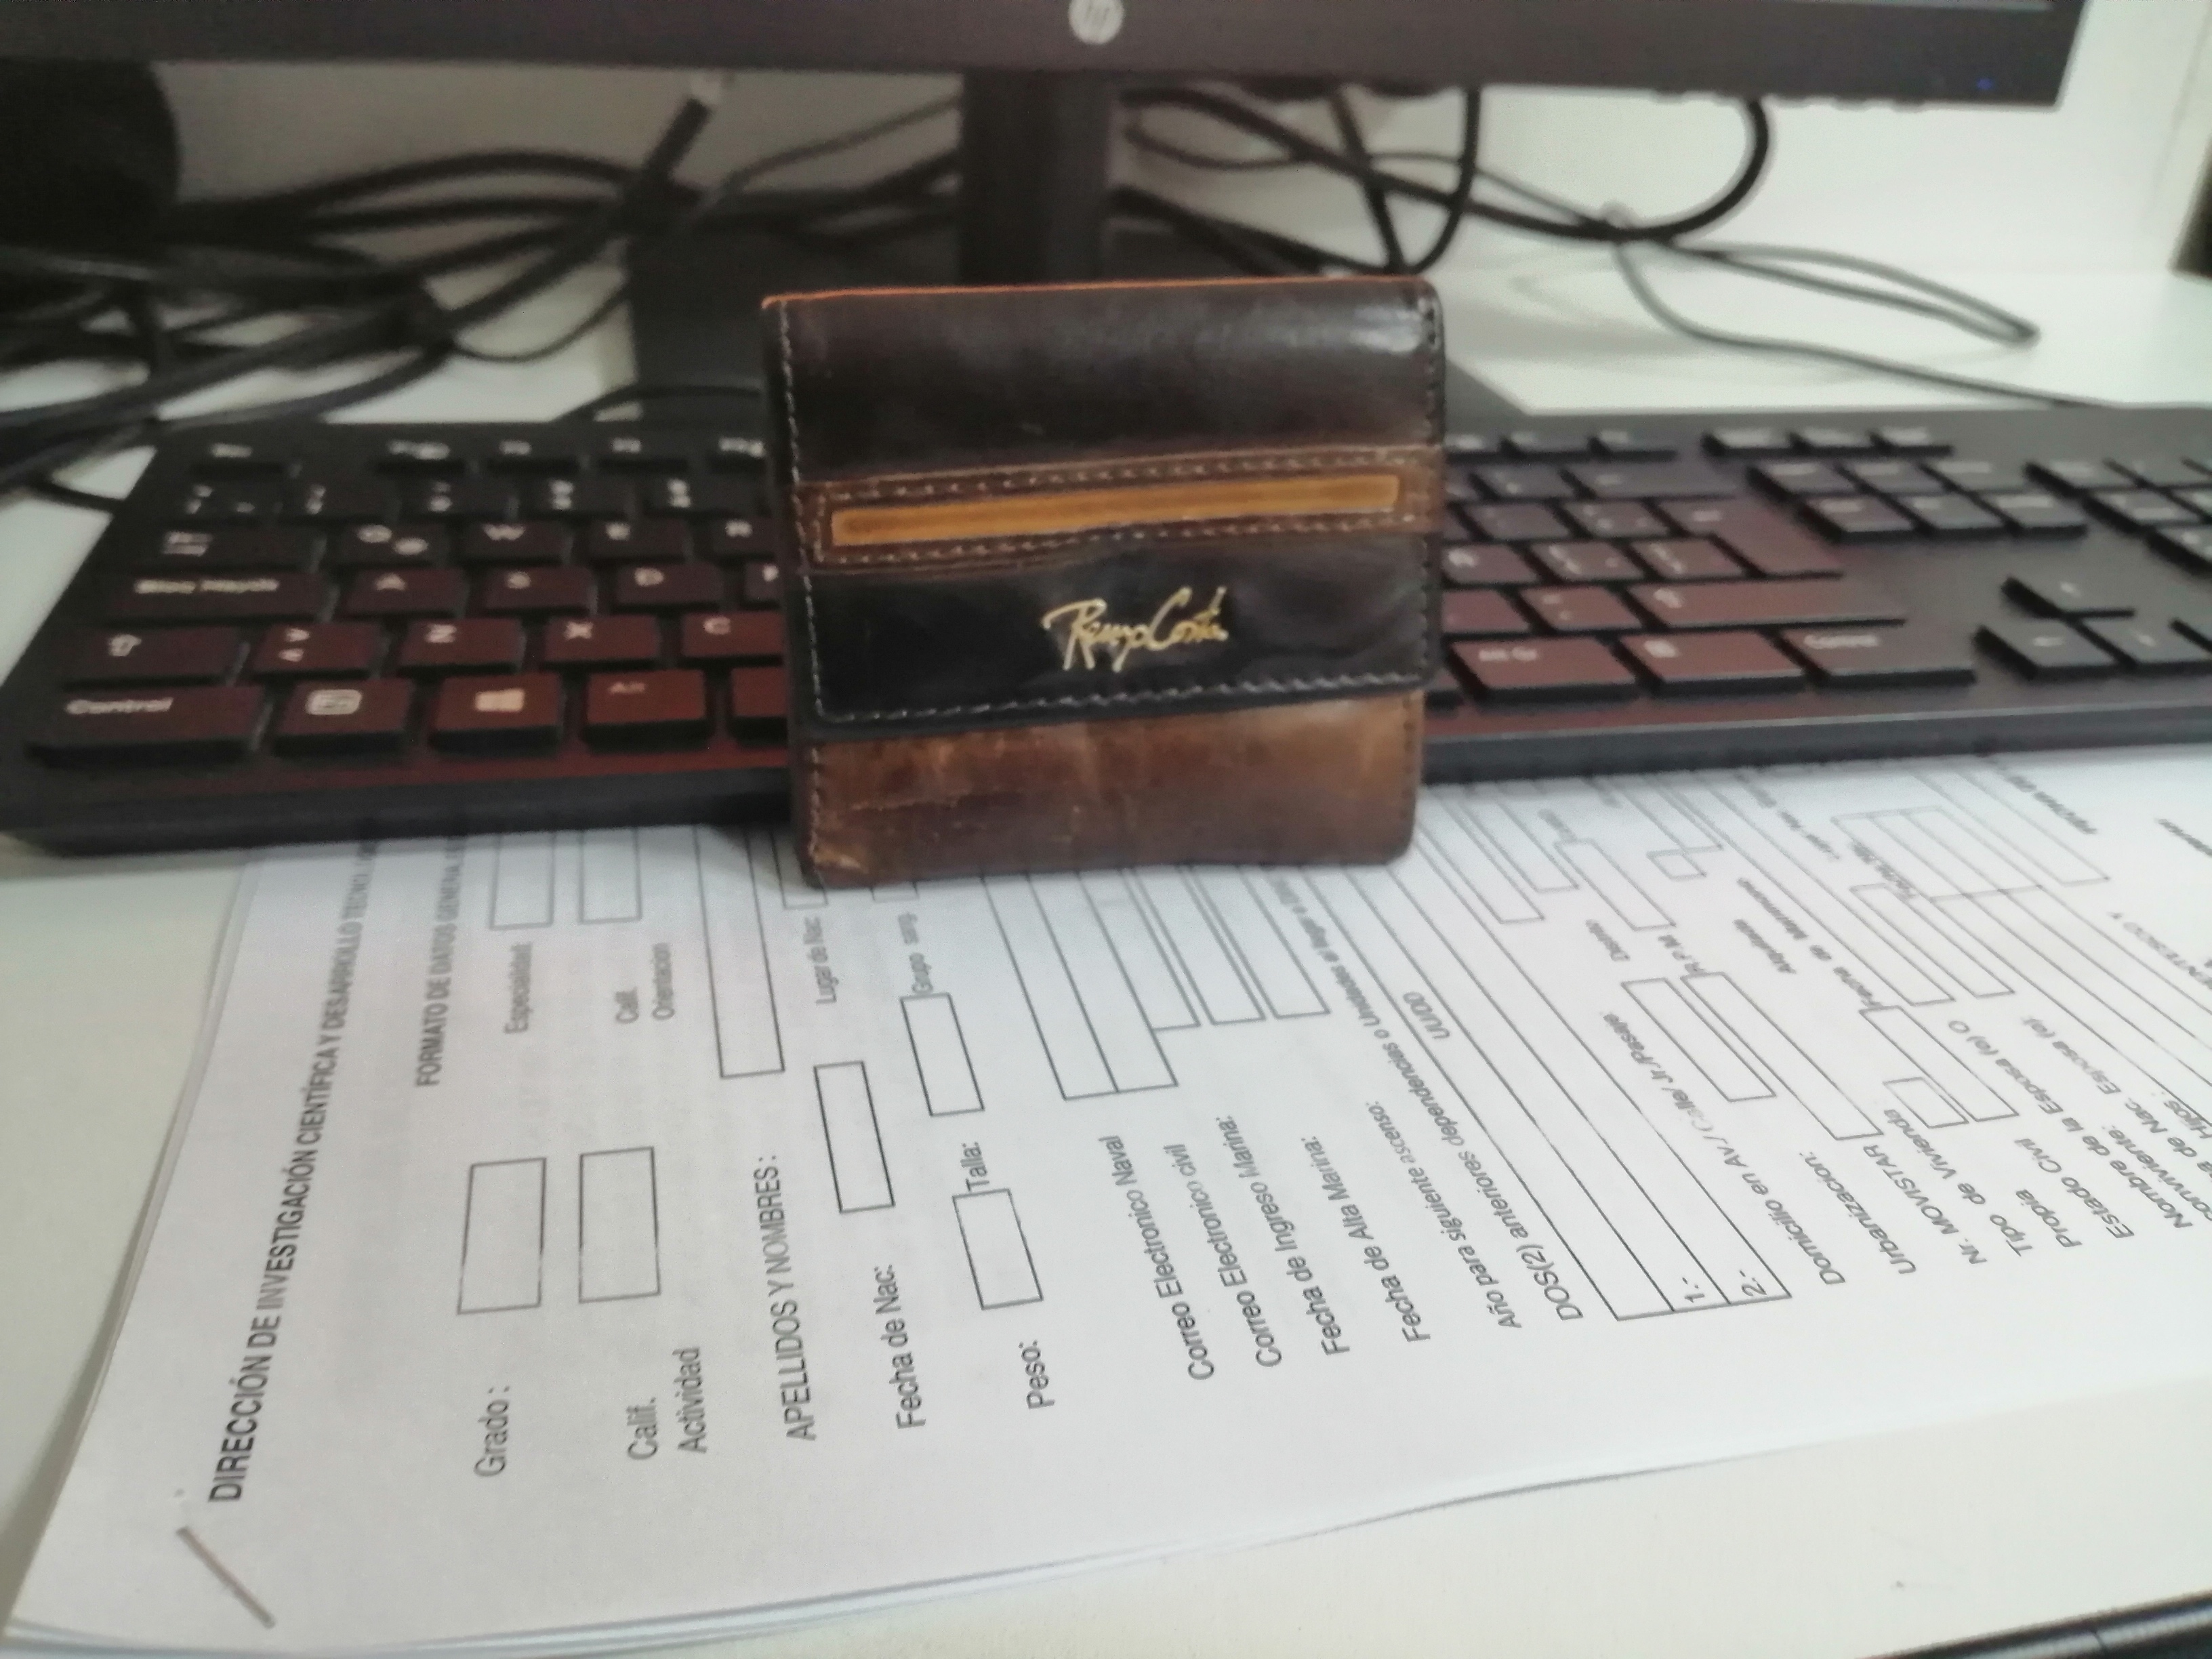monedero: (742, 267, 1460, 903)
